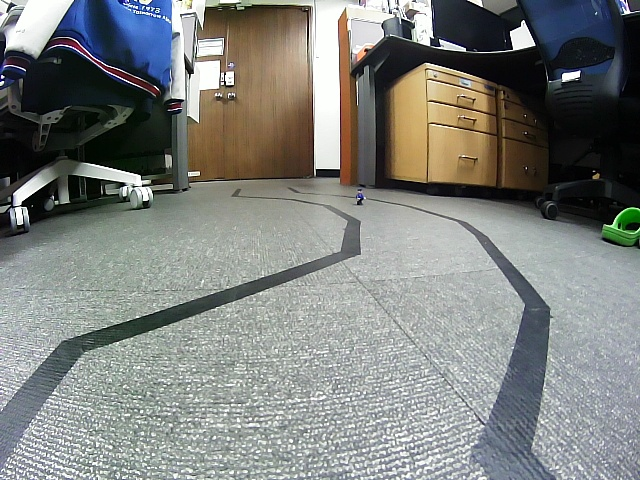person: (355, 188, 367, 206)
